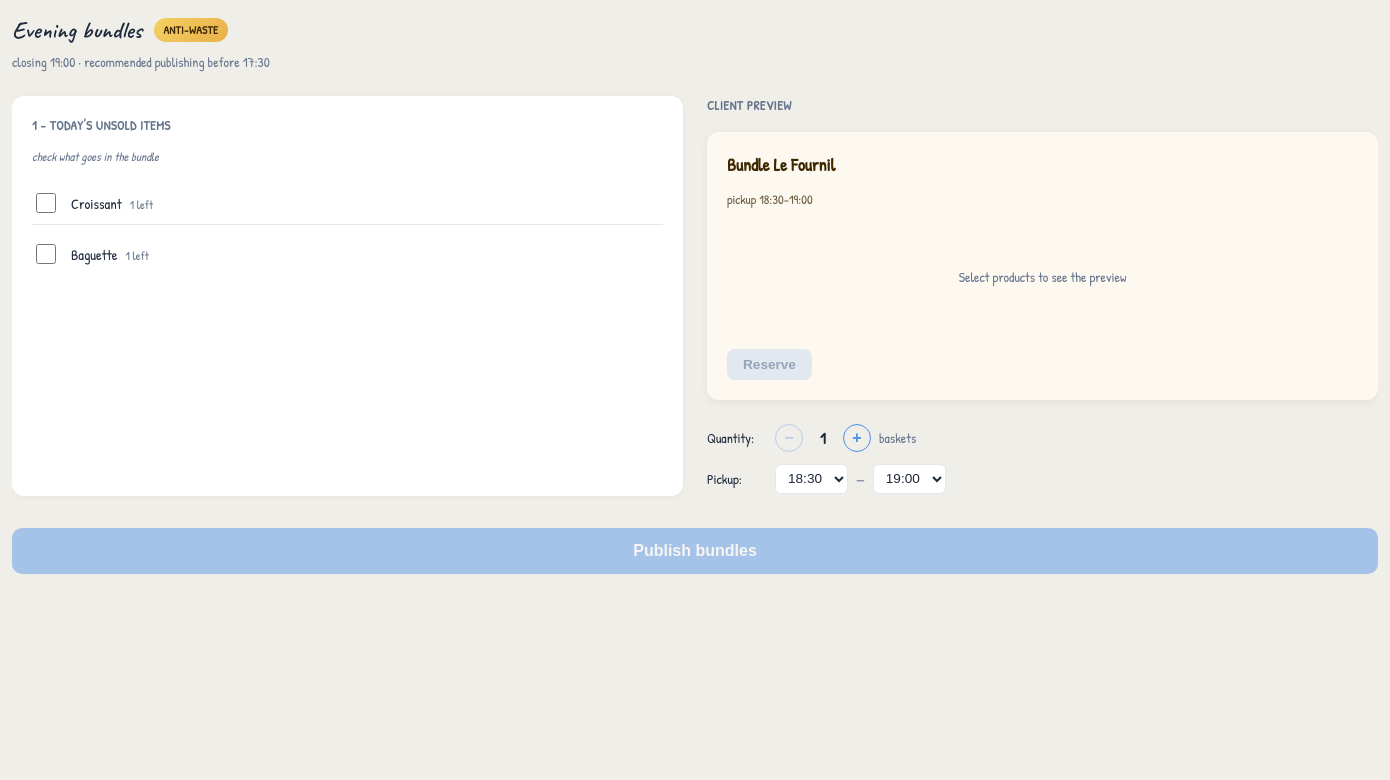
DashboardBundles (routed bundle composer) › selecting a product shows the stepper and updates pricing
Expected: the text "Croissant" is shown, top-left (71, 194), bottom-right (122, 213)
# Select first product
Click the checkbox named "Croissant": (46, 203) top-left (36, 193), bottom-right (56, 213)
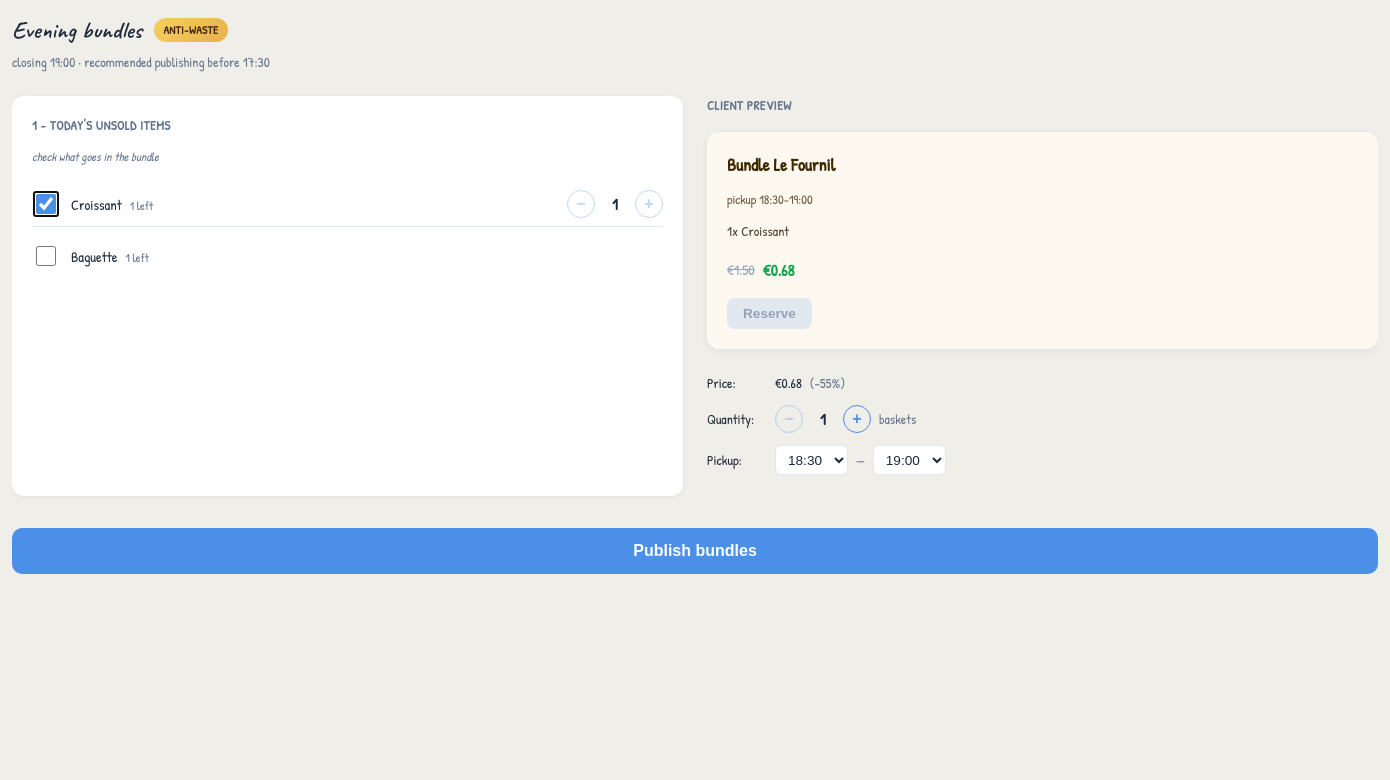
Expected: the button "Publish bundles" is enabled, top-left (12, 528), bottom-right (1378, 574)
